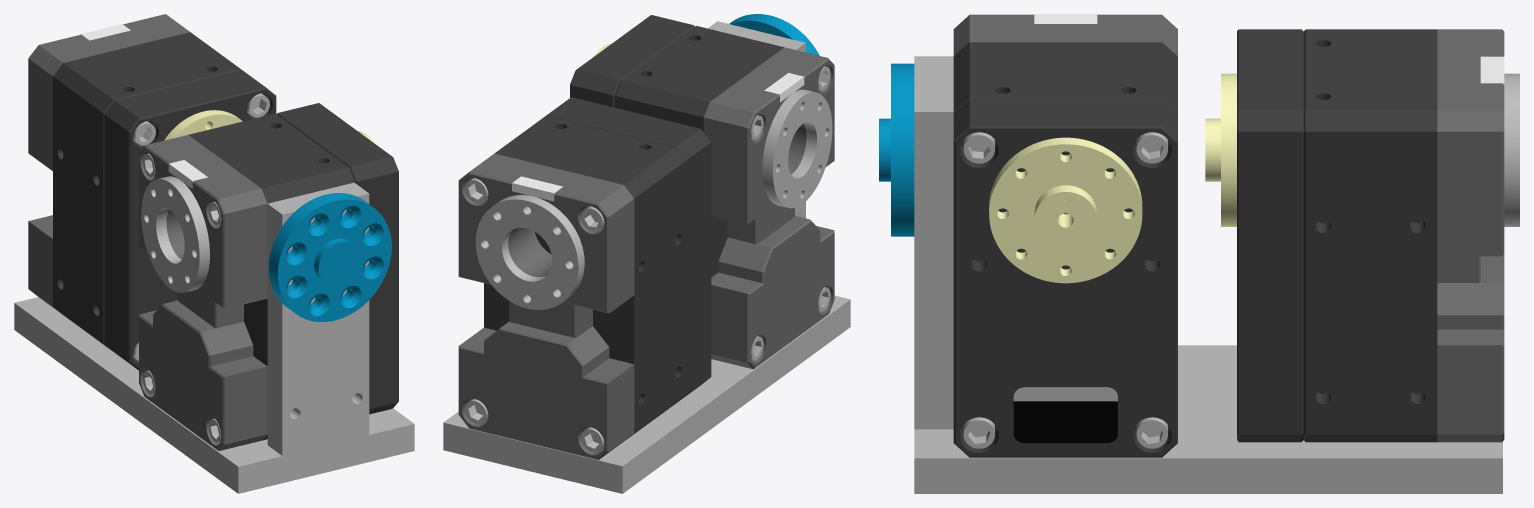
File: HipMotorL.obj
3 views of the same model, side by side, from view 1: azimuth 30°, elevation 25°; view 2: azimuth 150°, elevation 25°; view 3: azimuth 270°, elevation 25° (orthographic). The views are drawn at different scales.
Parts seen in each view (by area): view 1: Solid1:5, Solid1:32, Solid1:16, Solid1:20, Solid1:33, Solid1:34, Solid1:3, Solid1:15, Solid1:22, Solid1:14, Solid1:17, Solid1:4; view 2: Solid1:22, Solid1:5, Solid1:32, Solid1:33, Solid1:20, Solid1:15, Solid1:31, Solid1:14, Solid1:3, Solid1:34, Solid1:16, Solid1:21 (+3 smaller); view 3: Solid1:32, Solid1:3, Solid1:33, Solid1:20, Solid1:22, Solid1, Solid1:16, Solid1:15, Solid1:5, Solid1:34, Solid1:1, Solid1:17 (+7 smaller).
Part boxes in pixels (x1,y1,x2,y2): Solid1:5: (139,135,267,450); Solid1:32: (53,32,241,351); Solid1:16: (267,182,369,482); Solid1:20: (104,70,276,370); Solid1:33: (14,297,414,493); Solid1:34: (269,193,391,321); Solid1:3: (276,103,398,414); Solid1:15: (188,113,354,440); Solid1:22: (28,14,189,312); Solid1:14: (141,176,209,292); Solid1:17: (164,110,242,140); Solid1:4: (168,160,207,188); Solid1:22: (458,153,634,459); Solid1:5: (703,47,834,369); Solid1:32: (484,116,685,438); Solid1:33: (443,295,850,493); Solid1:20: (546,97,711,401); Solid1:15: (615,26,783,277); Solid1:31: (475,195,584,309); Solid1:14: (762,89,832,208); Solid1:3: (570,15,694,107); Solid1:34: (729,14,819,55); Solid1:16: (708,21,805,218); Solid1:21: (512,176,562,201); Solid1:32: (1303,29,1437,442); Solid1:3: (953,99,1177,457); Solid1:33: (914,345,1502,493); Solid1:20: (1237,29,1303,442); Solid1:22: (1437,29,1504,442); Solid1: (989,137,1142,283); Solid1:16: (914,56,953,429); Solid1:15: (953,42,1177,113); Solid1:5: (953,14,1177,55); Solid1:34: (879,63,914,236); Solid1:1: (1013,401,1117,443); Solid1:17: (1205,73,1236,226).
Bounding box in the file's own units: 0.04 × 0.0515 × 0.0815.
